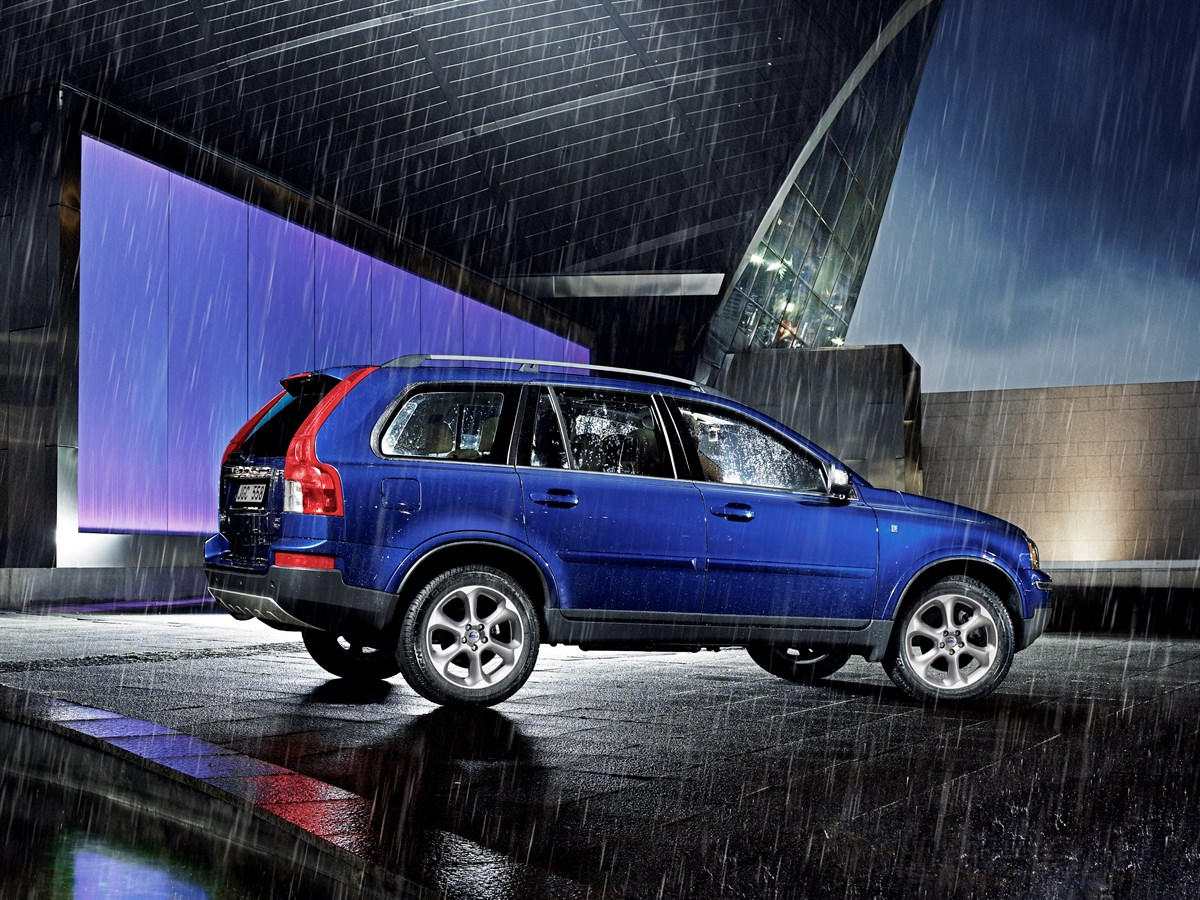other: (201, 335, 1048, 713)
